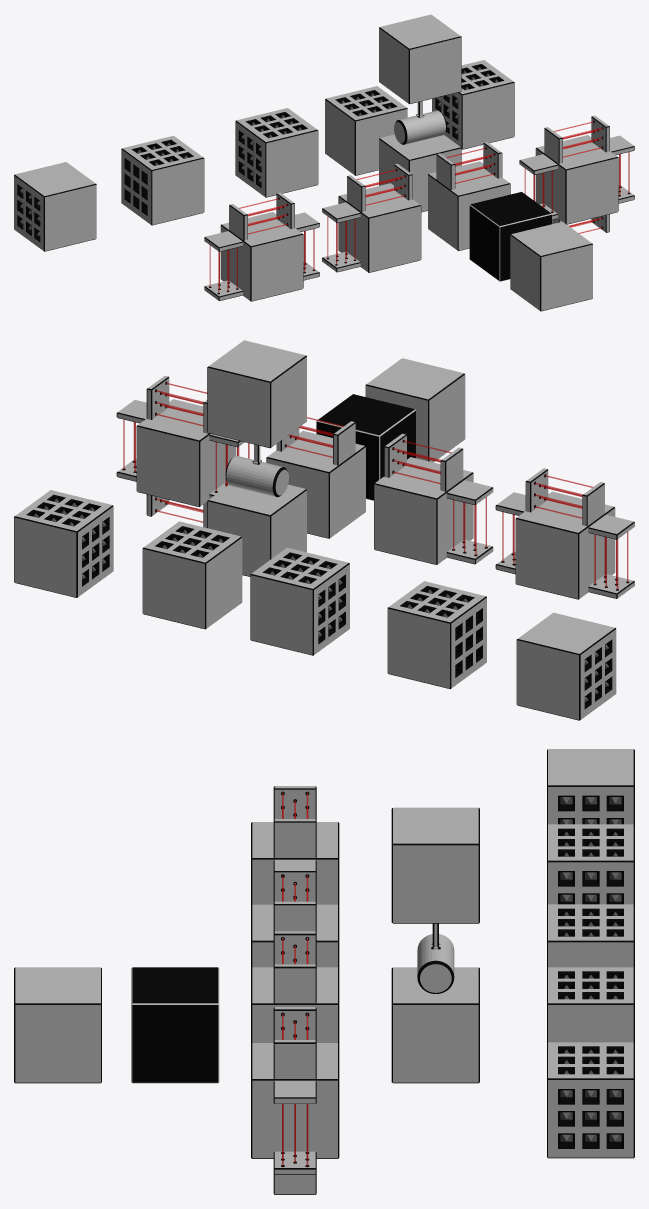
The model's file is cubesNewNew.fbx.
3 views of the same model, one above another, from view 1: azimuth 30°, elevation 25°; view 2: azimuth 150°, elevation 25°; view 3: azimuth 270°, elevation 25° (orthographic). The views are drawn at different scales.
Visible parts, largest first — view 1: Cube.217, Cube.white, Cube.black.016, Cube.black.024, Cube.black.003, Cube.236, Cube.232, Cube.039, Cube.black.006, Cube.black.002, Cube.black, Cube.216 (+11 smaller); view 2: Cube.217, Cube.black.002, Cube.black.024, Cube.black.006, Cube.black.003, Cube.black.016, Cube.232, Cube.039, Cube.236, Cube.216, Cube.white, Cube.219 (+10 smaller); view 3: Cube.black, Cube.217, Cube.white, Cube.black.006, Cube.219, Cube.236, Cube.black.016, Cube.black.002, Cube.black.024, Cube.black.003, Cube.232, Cube.216 (+9 smaller).
Part boxes in pixels (x1,y1,x2,y2): Cube.217: [379, 14, 461, 104]; Cube.white: [510, 221, 592, 311]; Cube.black.016: [121, 135, 204, 225]; Cube.black.024: [14, 162, 96, 251]; Cube.black.003: [235, 108, 318, 197]; Cube.236: [535, 135, 618, 224]; Cube.232: [220, 212, 303, 301]; Cube.039: [338, 183, 421, 272]; Cube.black.006: [432, 60, 514, 149]; Cube.black.002: [325, 86, 407, 175]; Cube.black: [469, 192, 552, 281]; Cube.216: [428, 161, 510, 250]; Cube.217: [207, 340, 306, 448]; Cube.black.002: [142, 521, 242, 629]; Cube.black.024: [516, 612, 616, 720]; Cube.black.006: [14, 490, 113, 597]; Cube.black.003: [250, 547, 349, 655]; Cube.black.016: [387, 581, 486, 689]; Cube.232: [515, 491, 615, 599]; Cube.039: [374, 457, 473, 564]; Cube.236: [136, 399, 236, 506]; Cube.216: [266, 431, 365, 538]; Cube.white: [365, 358, 465, 462]; Cube.219: [207, 484, 306, 576]; Cube.black: [131, 967, 219, 1083]; Cube.217: [391, 807, 479, 923]; Cube.white: [14, 967, 101, 1083]; Cube.black.006: [547, 1042, 634, 1158]; Cube.219: [391, 967, 479, 1083]; Cube.236: [251, 1043, 339, 1158]; Cube.black.016: [547, 824, 634, 904]; Cube.black.002: [547, 967, 634, 1042]; Cube.black.024: [547, 749, 634, 824]; Cube.black.003: [547, 904, 634, 967]; Cube.232: [251, 822, 339, 905]; Cube.216: [251, 967, 339, 1043].
Size of the model in its own units: 949 by 351 by 715.
